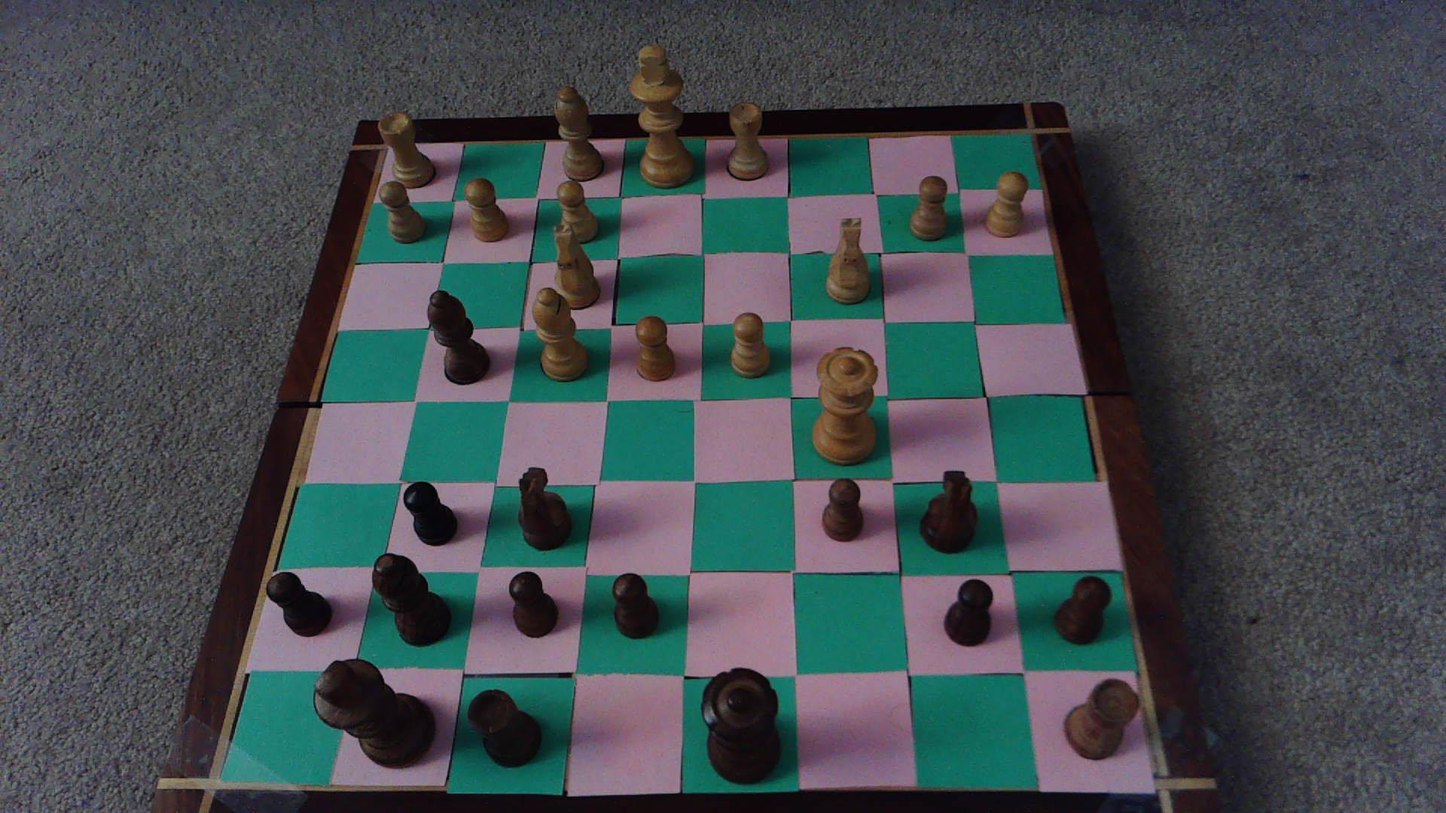dark_piece: (314, 659, 434, 767), (703, 668, 779, 783), (374, 553, 449, 645), (1065, 679, 1138, 759), (428, 290, 489, 384), (467, 689, 540, 766), (920, 470, 977, 553), (518, 467, 572, 550), (267, 572, 331, 636), (1055, 576, 1110, 644), (403, 482, 456, 545), (509, 571, 557, 637), (944, 580, 992, 645), (612, 573, 658, 638), (822, 479, 862, 540)
white_piece: (630, 46, 693, 187), (813, 348, 877, 464), (533, 288, 587, 380), (555, 87, 602, 181), (551, 223, 601, 310), (380, 112, 434, 187), (826, 218, 869, 303), (728, 102, 767, 180), (465, 177, 508, 241), (380, 181, 425, 242), (556, 180, 598, 245), (986, 171, 1027, 236), (731, 312, 769, 377), (636, 315, 674, 380), (910, 175, 947, 239)
